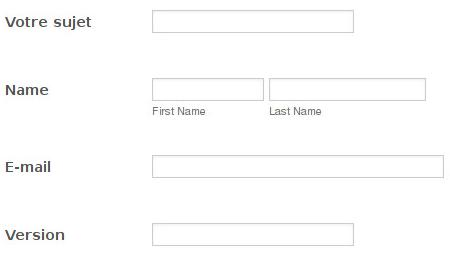field: (145, 153, 446, 180), (148, 5, 356, 37), (149, 220, 356, 251), (266, 75, 424, 104), (149, 73, 265, 102)
field_with_label: (5, 150, 449, 183), (5, 2, 361, 41), (5, 216, 359, 254), (7, 70, 267, 104)
